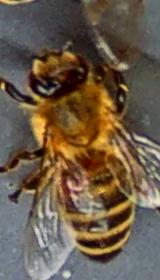varroa_mite: (40, 164, 88, 211)
